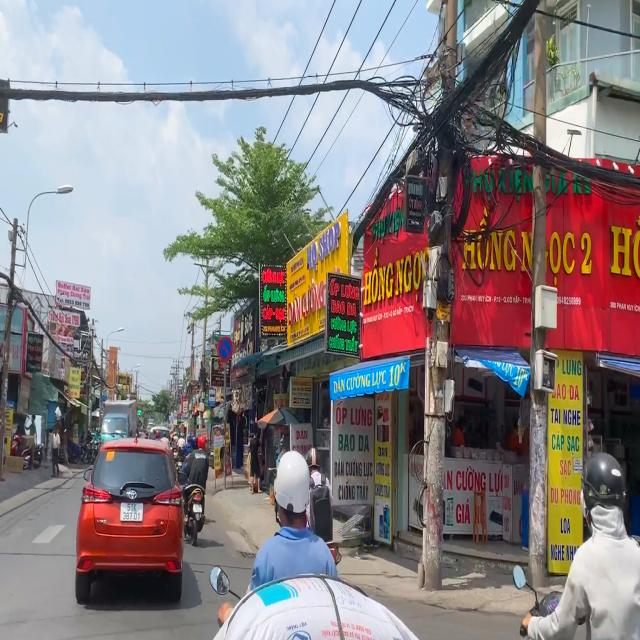Ben xe buyt: (208, 388, 216, 407)
Cam do: (217, 337, 233, 362)
